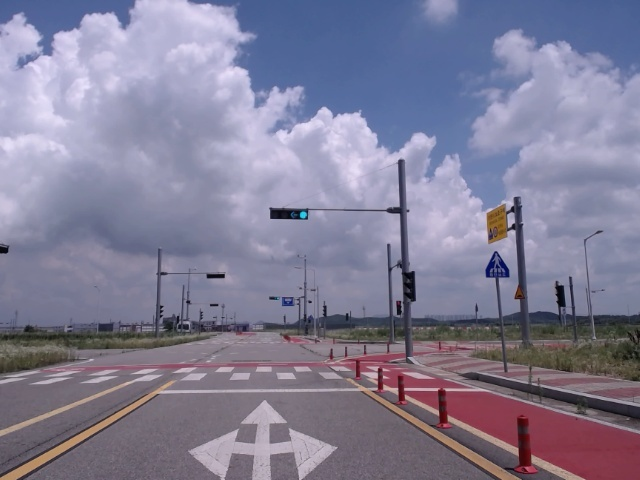all_green_4: (268, 208, 309, 220)
